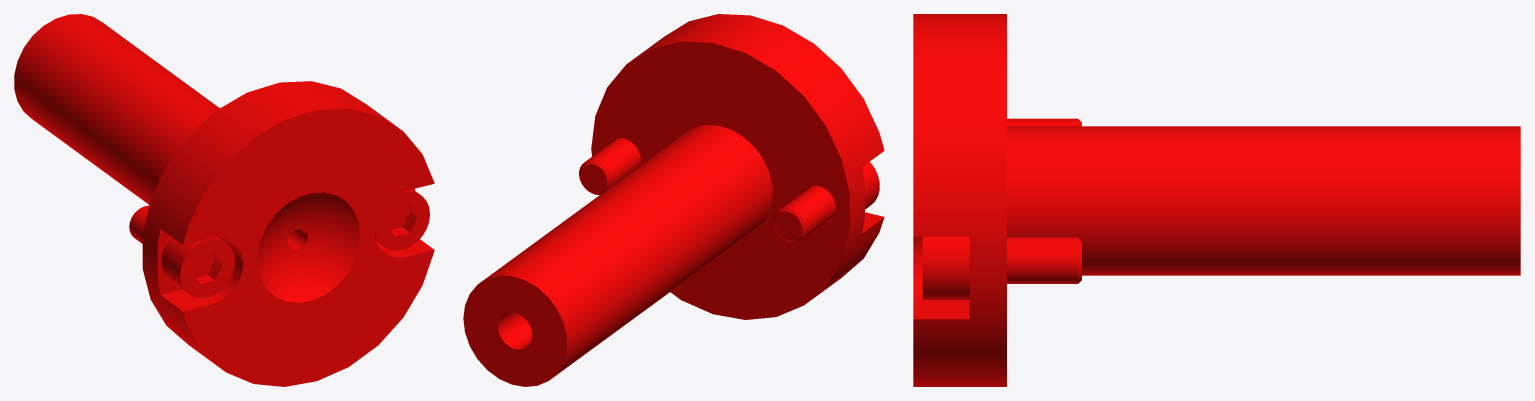
File: sprue.glb
The picture shows the model from 3 angles, left to right: view 1: azimuth 30°, elevation 25°; view 2: azimuth 150°, elevation 25°; view 3: azimuth 270°, elevation 25°; orthographic projection. The views are drawn at different scales.
Parts seen in each view (by area): view 1: cardcase_Sprue_Astraight_066, cardcase_shcs_Astraight_067 (×2); view 2: cardcase_Sprue_Astraight_066, cardcase_shcs_Astraight_067 (×2); view 3: cardcase_Sprue_Astraight_066, cardcase_shcs_Astraight_067 (×2).
Boxes of the visible parts, x1,y1,x2,y2 form: cardcase_Sprue_Astraight_066: (14,14,434,386); cardcase_shcs_Astraight_067 (×2): (129,189,429,298); cardcase_Sprue_Astraight_066: (463,14,884,386); cardcase_shcs_Astraight_067 (×2): (579,138,879,242); cardcase_Sprue_Astraight_066: (913,14,1520,386); cardcase_shcs_Astraight_067 (×2): (922,118,1081,299).
Bounding box in the file's own units: 0.0398 × 0.0399 × 0.0649.
